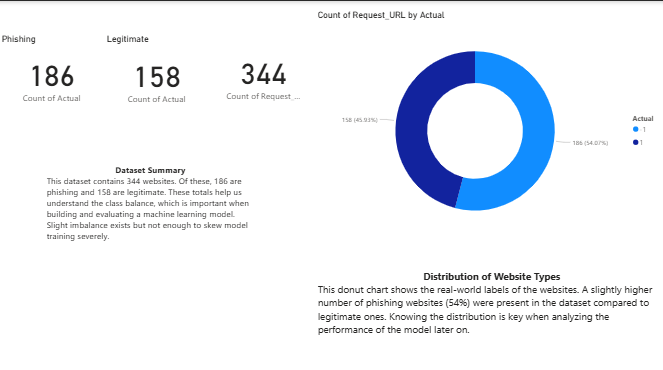

The dashboard page shown, as its layout file describes it:
{"tool":"powerbi","page":{"name":"Project overview","canvas":[1280,720],"ordinal":0},"visuals":[{"type":"donutChart","fields":{"Category":["phishing_predictions.Actual"],"Y":["CountNonNull(phishing_predictions.Request_URL)"]},"box":[599.7,16.8,666.9,440.1],"z":0},{"type":"card","fields":{"Values":["CountNonNull(phishing_predictions.Request_URL)"]},"box":[421.6,62.2,161.3,159.6],"z":1000},{"type":"card","title":"Phishing","fields":{"Values":["CountNonNull(phishing_predictions.Actual)"]},"box":[0,62.2,199.9,147.8],"z":2000},{"type":"card","title":"Legitimate","fields":{"Values":["CountNonNull(phishing_predictions.Actual)"]},"box":[199.9,62.2,199.9,151.2],"z":3000},{"type":"textbox","box":[0,504.5,200,150],"z":4000},{"type":"textbox","box":[85.7,304,399.8,179.7],"z":5000},{"type":"textbox","box":[600,505,667,150],"z":6000}]}

Visuals, with their boxes in screenshot pixels (x1, y1, x2, y2), scaled from the page's 1280x720 canvas onto the 663x370 screenshot:
donutChart - phishing_predictions.Actual x CountNonNull(phishing_predictions.Request_URL): bbox(311, 9, 656, 235)
card - CountNonNull(phishing_predictions.Request_URL): bbox(218, 32, 302, 114)
"Phishing" card: bbox(0, 32, 104, 108)
"Legitimate" card: bbox(104, 32, 207, 110)
textbox: bbox(0, 259, 104, 336)
textbox: bbox(44, 156, 251, 249)
textbox: bbox(311, 260, 656, 337)
